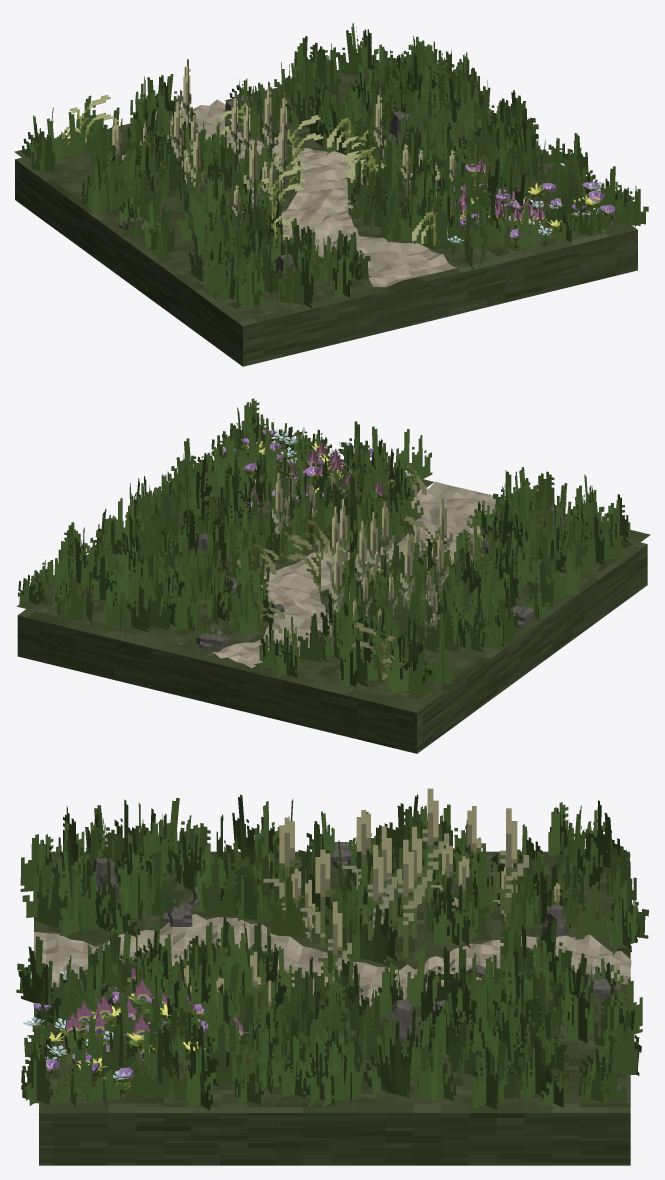
The picture shows the model from 3 angles, top to bottom: view 1: azimuth 30°, elevation 25°; view 2: azimuth 150°, elevation 25°; view 3: azimuth 270°, elevation 25°; orthographic projection. The views are drawn at different scales.
Visible parts, largest first — view 1: 草3, 底座, 草2, 草4, 地皮, 小路, 草1, 竖芦苇3.001, 竖芦苇1.001, 花朵2, 竖芦苇2.001, 弯芦苇1.001 (+5 smaller); view 2: 草3, 底座, 草2, 草4, 地皮, 小路, 草1, 竖芦苇3.001, 竖芦苇1.001, 弯芦苇1.001, 竖芦苇2.001, 花朵1 (+4 smaller); view 3: 草3, 草2, 底座, 草4, 地皮, 草1, 小路, 竖芦苇3.001, 竖芦苇1.001, 花朵1, 竖芦苇2.001, 花朵2 (+5 smaller).
Boxes of the visible parts, x1,y1,x2,y2 form: 草3: [51, 23, 628, 308]; 底座: [15, 109, 637, 366]; 草2: [22, 41, 588, 300]; 草4: [31, 29, 648, 309]; 地皮: [14, 56, 630, 319]; 小路: [180, 99, 457, 287]; 草1: [119, 36, 643, 254]; 竖芦苇3.001: [171, 59, 386, 173]; 竖芦苇1.001: [140, 111, 292, 211]; 花朵2: [452, 163, 615, 249]; 竖芦苇2.001: [112, 117, 456, 230]; 弯芦苇1.001: [70, 95, 323, 219]; 草3: [54, 407, 628, 693]; 底座: [17, 497, 647, 753]; 草2: [56, 434, 621, 697]; 草4: [55, 398, 630, 689]; 地皮: [17, 440, 650, 704]; 小路: [205, 481, 495, 668]; 草1: [18, 414, 550, 645]; 竖芦苇3.001: [272, 472, 414, 617]; 竖芦苇1.001: [329, 498, 452, 646]; 弯芦苇1.001: [287, 516, 438, 679]; 竖芦苇2.001: [283, 471, 476, 628]; 花朵1: [250, 441, 388, 506]; 草3: [16, 794, 642, 1106]; 草2: [50, 800, 648, 1109]; 底座: [39, 863, 630, 1165]; 草4: [22, 802, 637, 1109]; 地皮: [34, 851, 629, 1103]; 草1: [21, 821, 627, 1107]; 小路: [33, 914, 631, 1006]; 竖芦苇3.001: [318, 788, 528, 985]; 竖芦苇1.001: [263, 810, 560, 947]; 花朵1: [61, 965, 247, 1053]; 竖芦苇2.001: [183, 806, 485, 1009]; 花朵2: [33, 984, 256, 1093].
Size of the model in its own units: 730 by 244 by 734.
8 materials, 8 textured.
